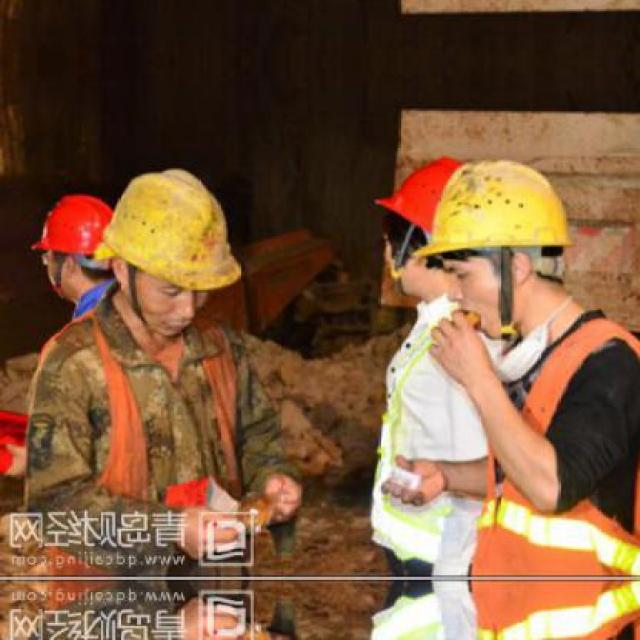Reflective-Jacket: (6, 306, 269, 612), (471, 312, 640, 582), (363, 299, 497, 575)
Safety-Helmet: (94, 158, 263, 298), (412, 151, 588, 270), (366, 146, 476, 250), (22, 185, 123, 278)
